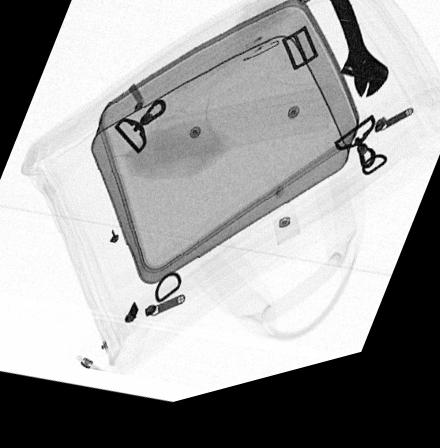Wrench: (323, 0, 387, 119)
